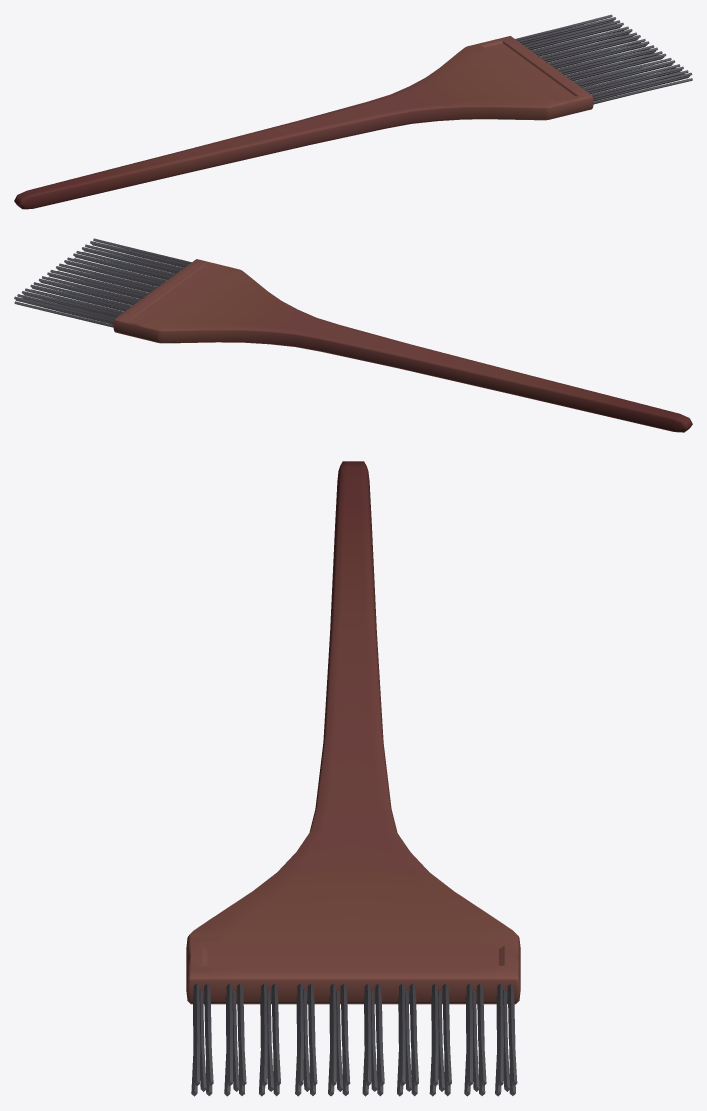
Rendered from Dye_hair.fbx.
3 views of the same model, one above another, from view 1: azimuth 30°, elevation 25°; view 2: azimuth 150°, elevation 25°; view 3: azimuth 270°, elevation 25° (orthographic). The views are drawn at different scales.
Parts seen in each view (by area): view 1: Dye_hair; view 2: Dye_hair; view 3: Dye_hair.
Boxes of the visible parts, x1,y1,x2,y2 form: Dye_hair: [14, 14, 692, 209]; Dye_hair: [14, 238, 692, 432]; Dye_hair: [186, 461, 520, 1096].
Size of the model in its own units: 6.54 by 0.1385 by 1.49.
